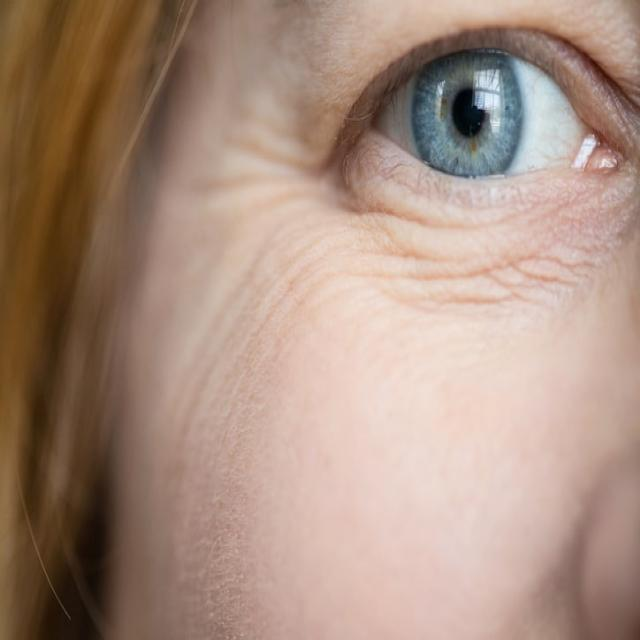Wrinkles: (166, 201, 348, 428), (193, 129, 318, 200), (361, 252, 602, 287), (358, 202, 538, 231)
